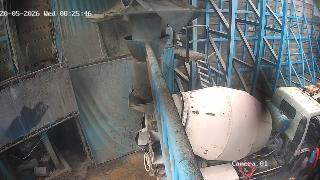cement_mixer_truck: (128, 86, 320, 180)
swing_chute: (123, 33, 172, 99)
